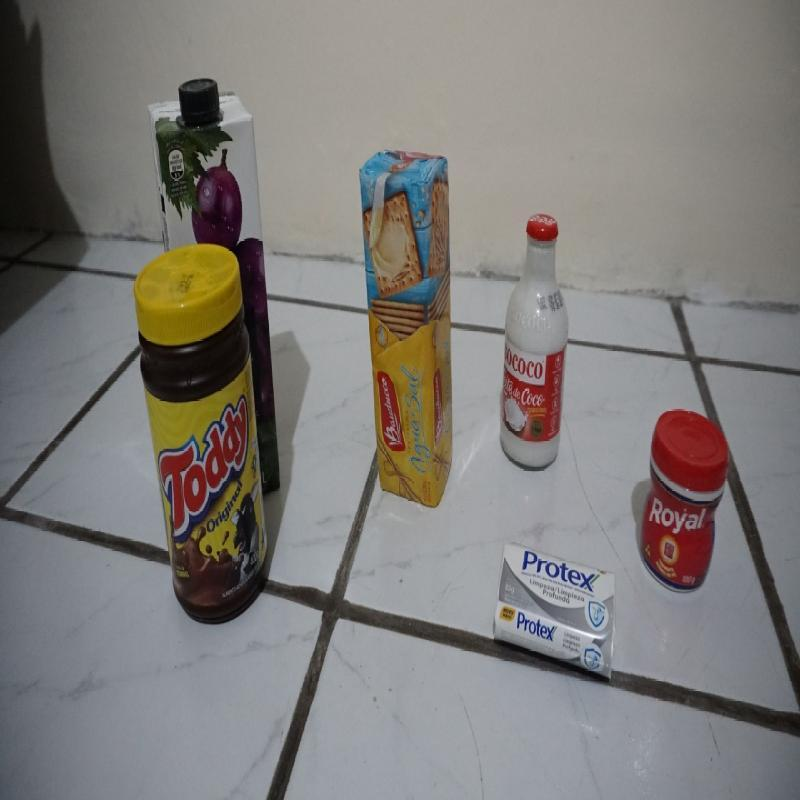Chocolate Powder: (133, 242, 271, 626)
Coconut Milk: (500, 213, 570, 474)
Cracker: (360, 149, 456, 506)
Soap: (492, 541, 616, 683)
Yeast: (640, 408, 730, 598)
